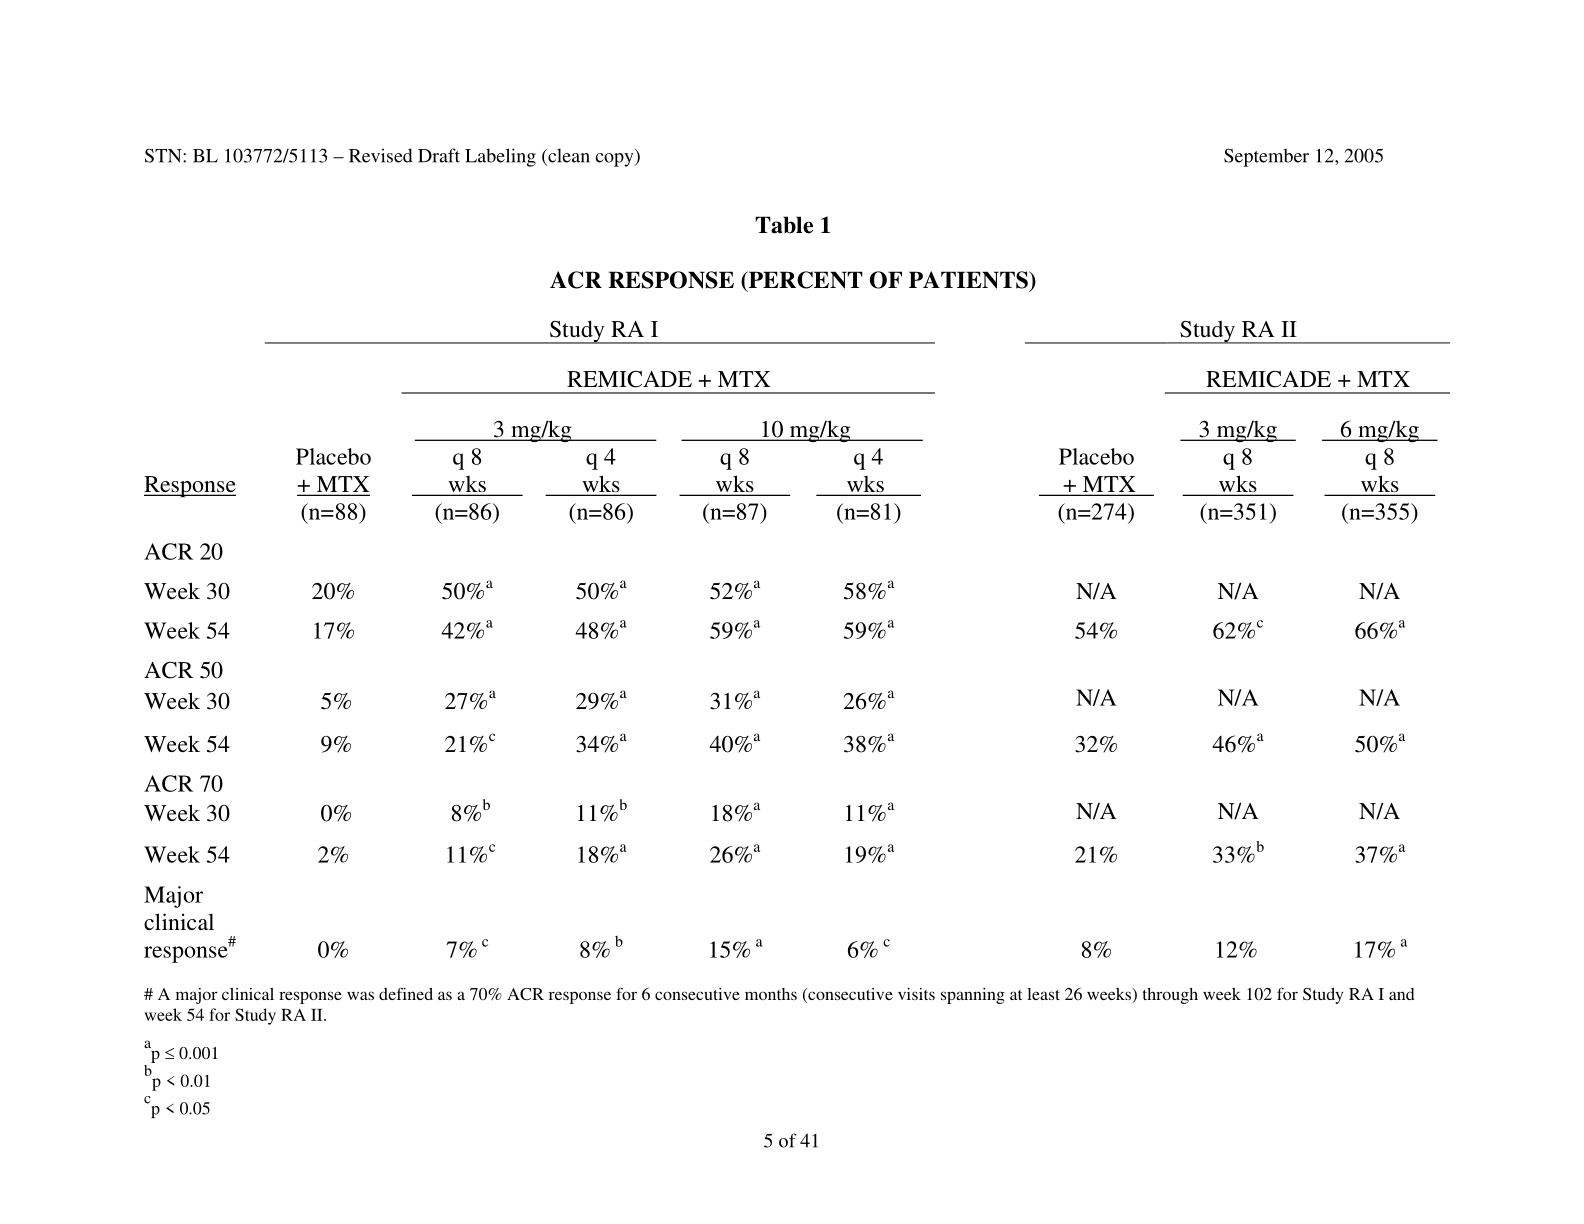partial_lined_merged_cells: (140, 318, 1452, 972)
